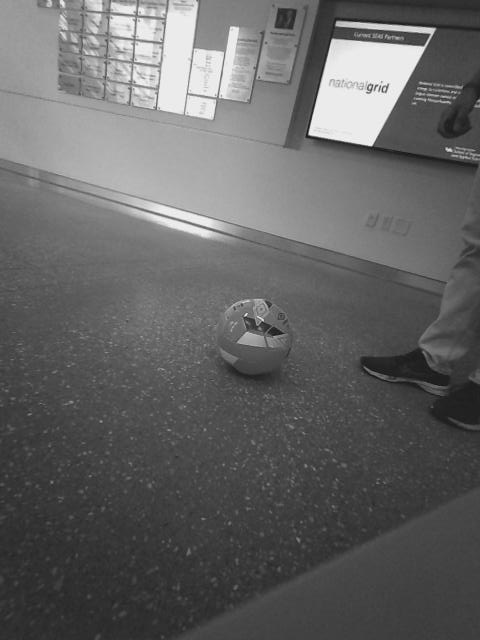ball: (210, 294, 297, 378)
